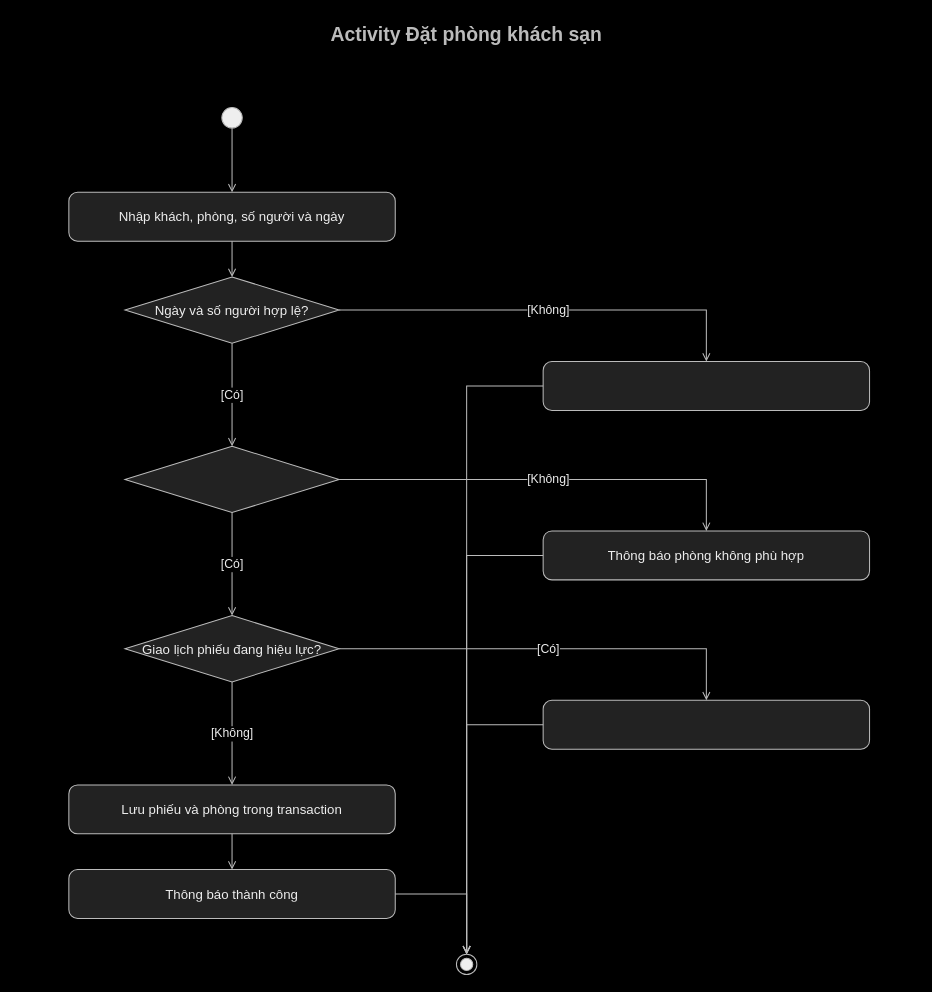
Some shapes in this 932 by 992 pixel diagram are drawn without their labels. Each missing label, with the box of its shape:
Phòng đủ chỗ và không bảo trì?: (124, 445, 339, 513)
Thông báo dữ liệu không hợp lệ: (542, 361, 870, 411)
Thông báo phòng đã được đặt: (542, 699, 870, 749)
